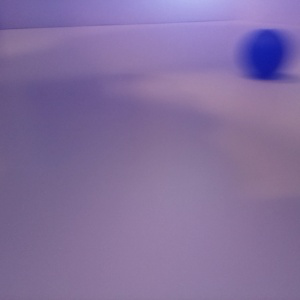dead_ball: (241, 29, 291, 76)
